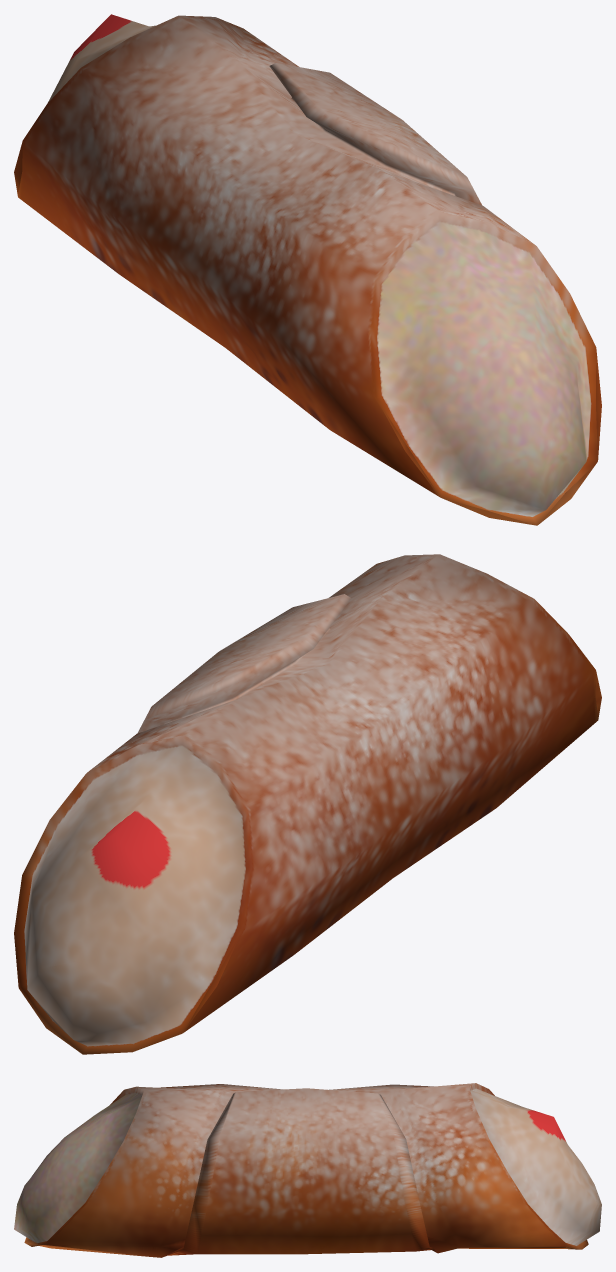
3 views of the same model, one above another, from view 1: azimuth 30°, elevation 25°; view 2: azimuth 150°, elevation 25°; view 3: azimuth 270°, elevation 25° (orthographic). The views are drawn at different scales.
Visible parts, largest first — view 1: Cannolo1_1; view 2: Cannolo1_1; view 3: Cannolo1_1.
Boxes of the visible parts, <box> form: Cannolo1_1: <box>14,14,601,525</box>; Cannolo1_1: <box>14,554,601,1054</box>; Cannolo1_1: <box>14,1083,601,1257</box>.
Bounding box in the file's own units: 0.1987 × 0.2042 × 0.6454.
1 material, 1 textured.
